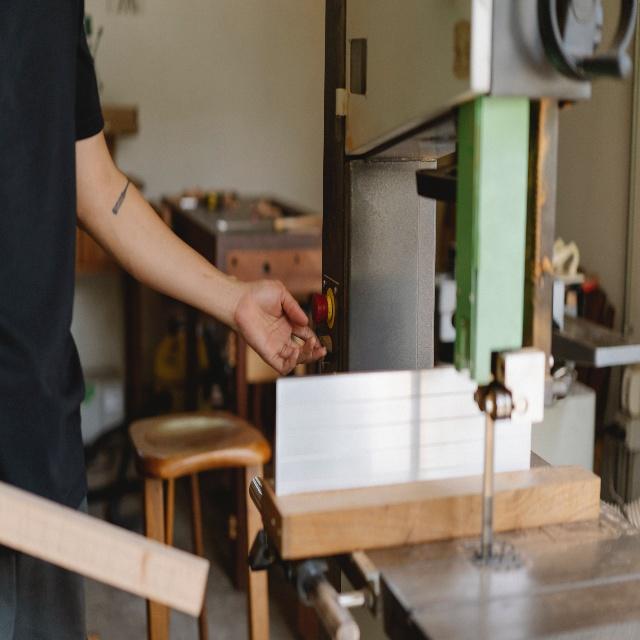Sin_guantes: (232, 277, 327, 376)
